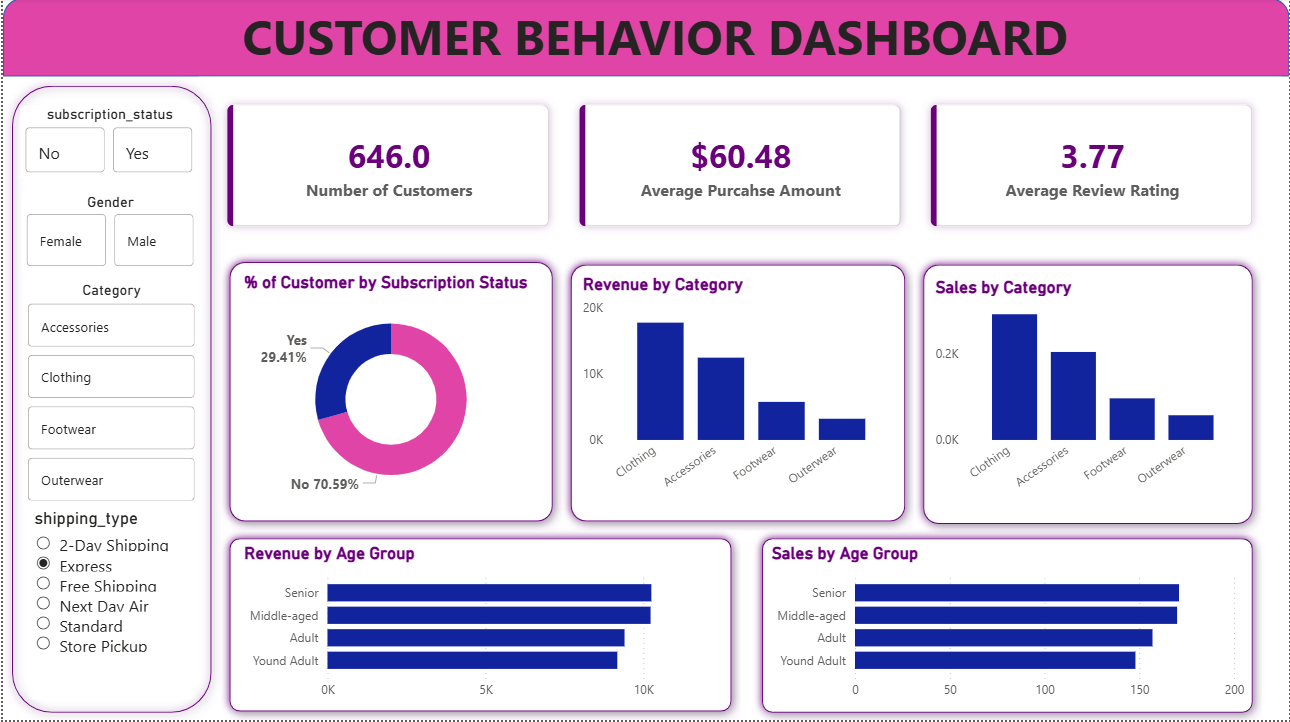

The dashboard page shown, as its layout file describes it:
{"tool":"powerbi","page":{"name":"Page 1","canvas":[1280,720],"ordinal":0},"visuals":[{"type":"shape","box":[0,0,1280.3,78.2],"z":0},{"type":"shape","box":[746.4,528.7,506.3,191.6],"z":1000},{"type":"cardVisual","fields":{"Data":["public customer.Number of Customers","public customer.Average Purcahse Amount","public customer.Average Review Rating"]},"box":[195.3,78.4,1076,177.9],"z":2000},{"type":"textbox","box":[126.2,0,1047,78.2],"z":3000},{"type":"shape","box":[216.4,253.8,339.6,276.2],"z":4000},{"type":"donutChart","title":"% of Customer by Subscription Status","fields":{"Category":["public customer.subscription_status"],"Y":["CountNonNull(public customer.customer_id)"]},"box":[235.1,272.4,302.3,235.1],"z":5000},{"type":"shape","box":[556,256.3,350.8,273.7],"z":6000},{"type":"shape","box":[906.8,256.3,345.8,276.2],"z":7000},{"type":"clusteredColumnChart","title":"Revenue by Category","fields":{"Y":["Sum(public customer.purchase_amount)"],"Category":["public customer.category"]},"box":[572.2,274.9,317.2,235.1],"z":8000},{"type":"clusteredColumnChart","title":"Sales by Category","fields":{"Y":["CountNonNull(public customer.purchase_amount)"],"Category":["public customer.category"]},"box":[923,277.4,312.2,232.6],"z":9000},{"type":"shape","box":[0,78.4,216.4,641.9],"z":10000},{"type":"advancedSlicerVisual","fields":{"Values":["public customer.subscription_status"]},"box":[17.4,107,177.9,72.1],"z":11000},{"type":"advancedSlicerVisual","title":"Gender","fields":{"Values":["public customer.gender"]},"box":[18.7,194.1,176.6,78.4],"z":12000},{"type":"clusteredBarChart","title":"Sales by Age Group","fields":{"Category":["public customer.age_group"],"Y":["CountNonNull(public customer.customer_id)"]},"box":[760.1,542.4,480.2,164.2],"z":13000},{"type":"shape","box":[216.4,528.7,517.5,190.3],"z":14000},{"type":"clusteredBarChart","title":"Revenue by Age Group","fields":{"Category":["public customer.age_group"],"Y":["Sum(public customer.purchase_amount)"]},"box":[235.1,542.4,480.2,164.2],"z":15000},{"type":"advancedSlicerVisual","title":"Category","fields":{"Values":["public customer.category"]},"box":[19.9,282.4,176.6,225.2],"z":16000},{"type":"listSlicer","fields":{"Values":["public customer.shipping_type"]},"box":[26.1,507.5,164.2,190.3],"z":17000}]}

Visuals, with their boxes in screenshot pixels (x1, y1, x2, y2), scaled from the page's 1280x720 canvas onto the 1290x722 screenshot:
shape: l=0, t=0, r=1289, b=78
shape: l=752, t=530, r=1262, b=721
cardVisual - public customer.Number of Customers x public customer.Average Purcahse Amount: l=197, t=79, r=1281, b=257
textbox: l=127, t=0, r=1182, b=78
shape: l=218, t=255, r=560, b=531
"% of Customer by Subscription Status" donutChart: l=237, t=273, r=542, b=509
shape: l=560, t=257, r=914, b=531
shape: l=914, t=257, r=1262, b=534
"Revenue by Category" clusteredColumnChart: l=577, t=276, r=896, b=511
"Sales by Category" clusteredColumnChart: l=930, t=278, r=1245, b=511
shape: l=0, t=79, r=218, b=721
advancedSlicerVisual - public customer.subscription_status: l=18, t=107, r=197, b=180
"Gender" advancedSlicerVisual: l=19, t=195, r=197, b=273
"Sales by Age Group" clusteredBarChart: l=766, t=544, r=1250, b=709
shape: l=218, t=530, r=740, b=721
"Revenue by Age Group" clusteredBarChart: l=237, t=544, r=721, b=709
"Category" advancedSlicerVisual: l=20, t=283, r=198, b=509
listSlicer - public customer.shipping_type: l=26, t=509, r=192, b=700
